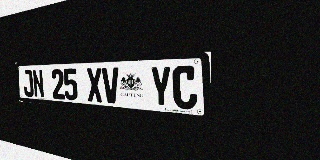2: (51, 69, 65, 100)
5: (63, 68, 78, 101)
C: (172, 65, 197, 110)
J: (22, 70, 34, 97)
N: (32, 69, 44, 98)
V: (102, 67, 120, 104)
X: (86, 68, 103, 103)
Y: (149, 66, 172, 108)
